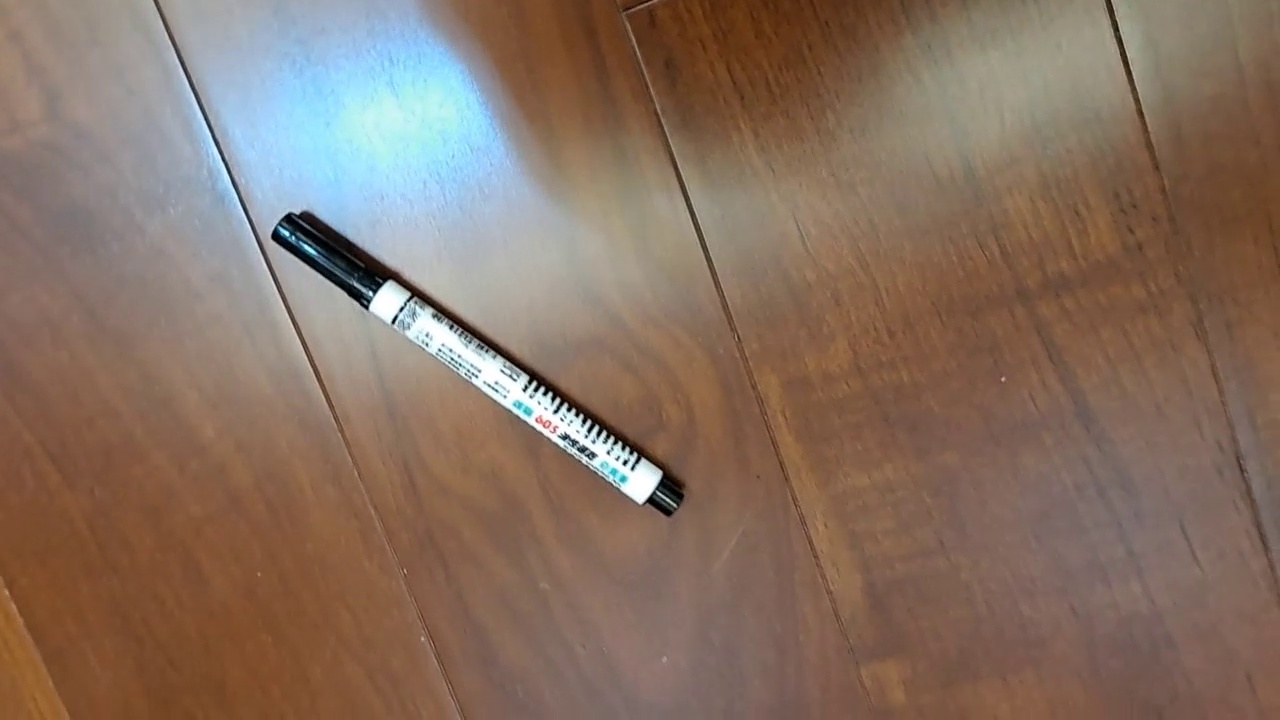pen: (270, 210, 685, 518)
